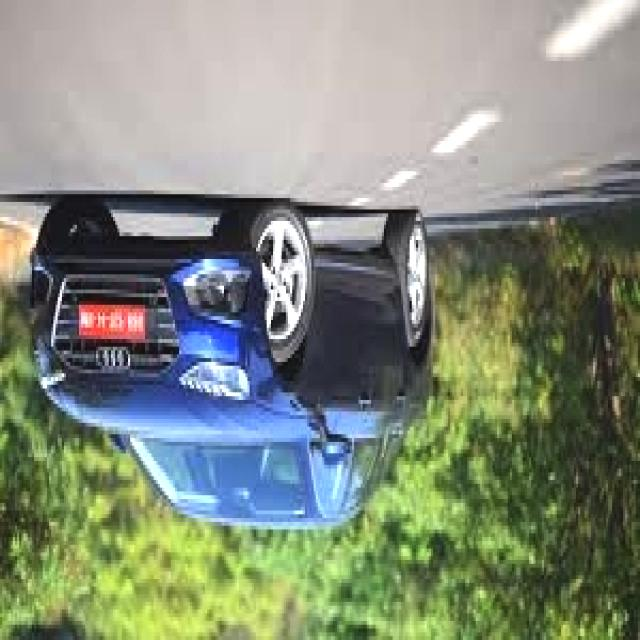blue: (31, 201, 430, 528)
